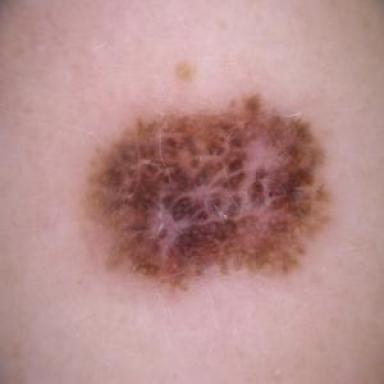Melanoma: (88, 95, 328, 287)
